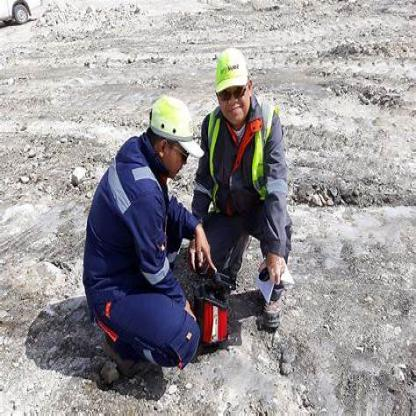person: (74, 94, 204, 373), (197, 24, 302, 343)
